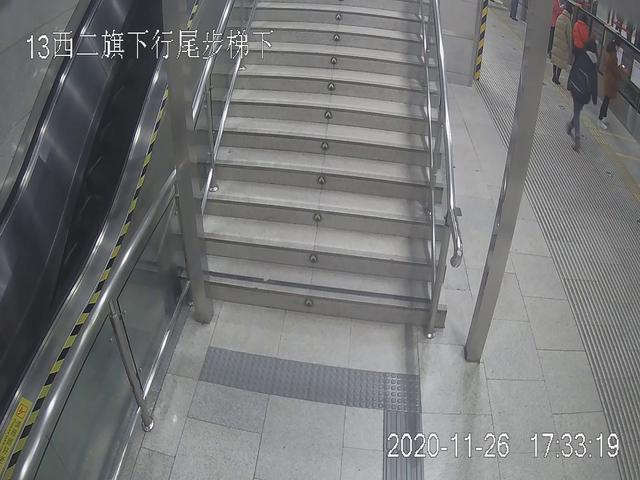person: (567, 38, 600, 148), (549, 1, 571, 87), (599, 35, 619, 126)
